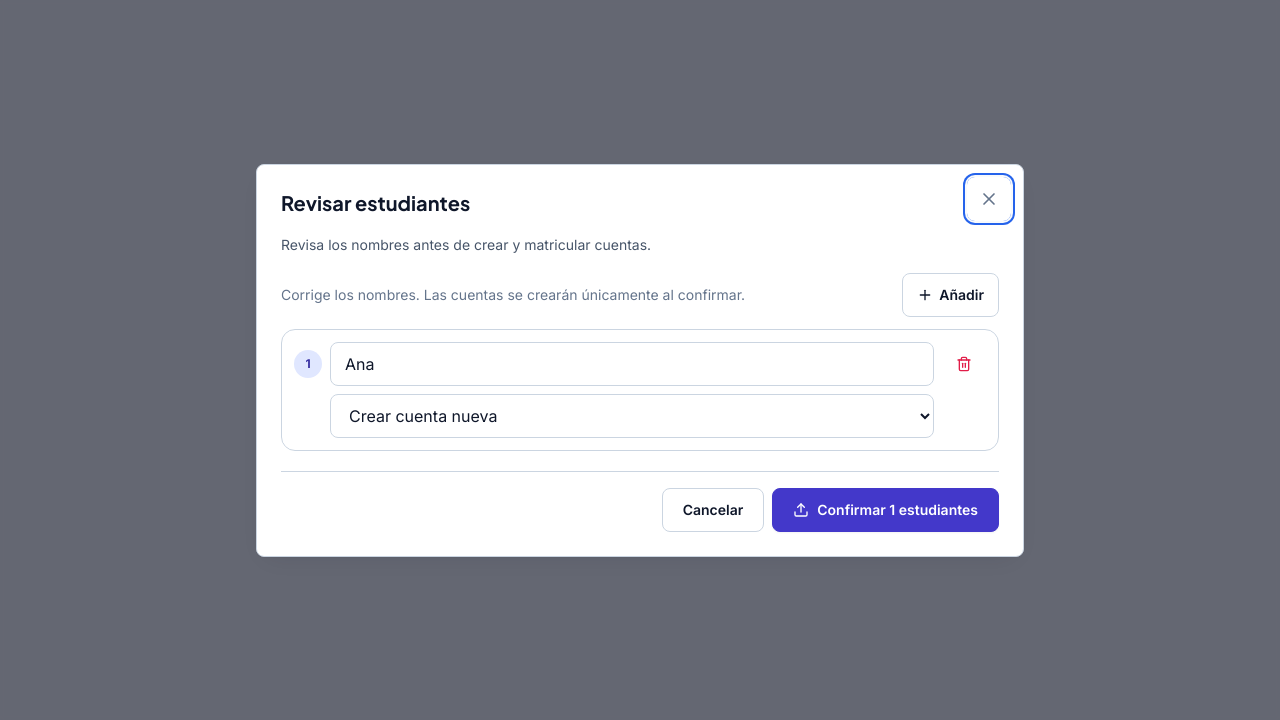
recovers a lost confirmation response without repeating row writes
The image size is (1280, 720).
Click the button "Confirmar 1 estudiantes": x=886, y=510 [772, 488, 999, 532]
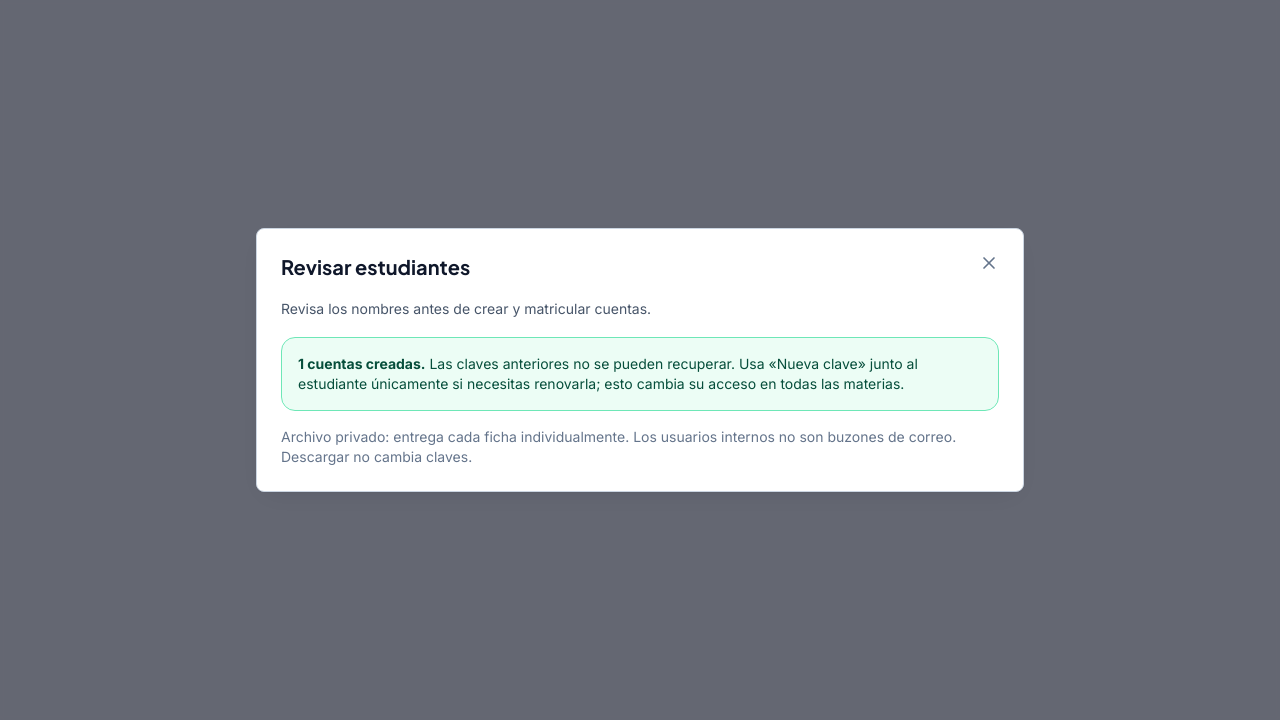
Expected: the text "Las claves anteriores no se pueden recuperar" is shown, [298, 355, 918, 392]
